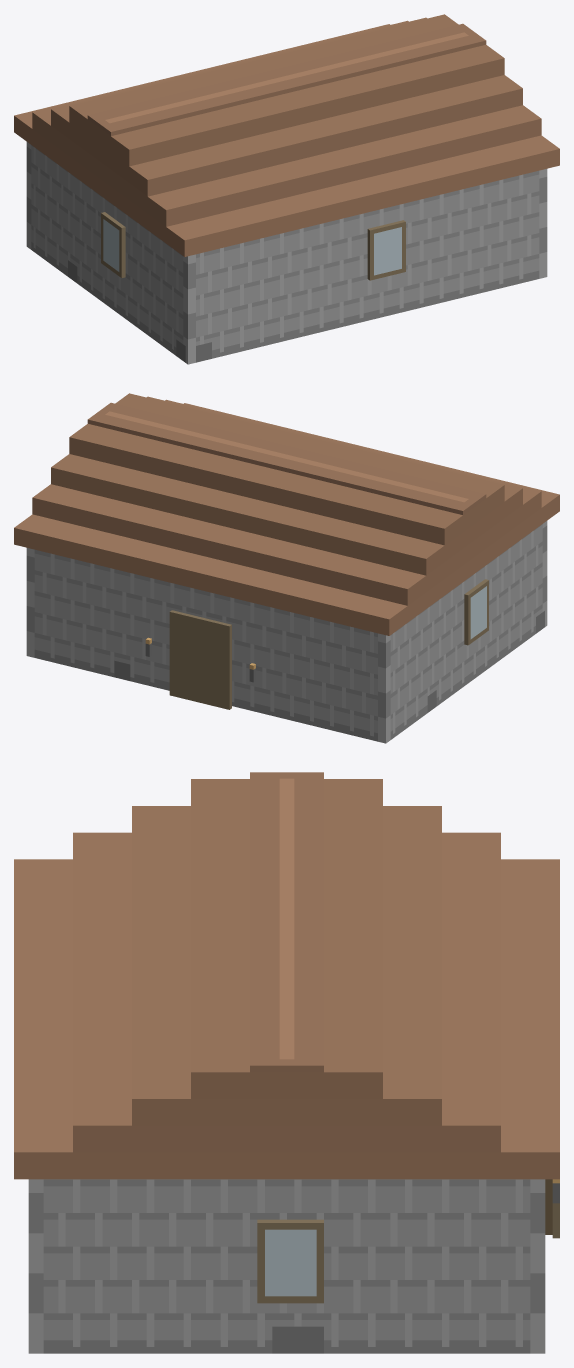
Rendered from gran_herreria_01.glb.
3 views of the same model, one above another, from view 1: azimuth 30°, elevation 25°; view 2: azimuth 150°, elevation 25°; view 3: azimuth 270°, elevation 25° (orthographic). The views are drawn at different scales.
Visible parts, largest first — view 1: gran_herreria_01; view 2: gran_herreria_01; view 3: gran_herreria_01.
Boxes of the visible parts, x1,y1,x2,y2 form: gran_herreria_01: [14, 14, 559, 364]; gran_herreria_01: [14, 393, 559, 743]; gran_herreria_01: [14, 772, 559, 1353].
Size of the model in its own units: 9.4 by 4.4 by 7.4.
